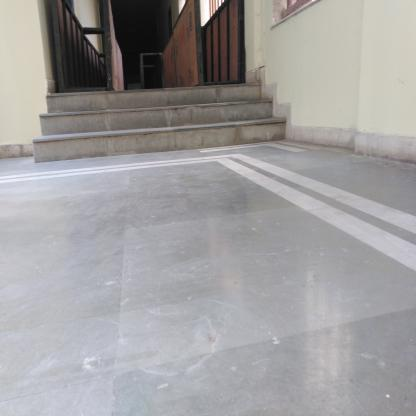stairs: (58, 85, 259, 150)
